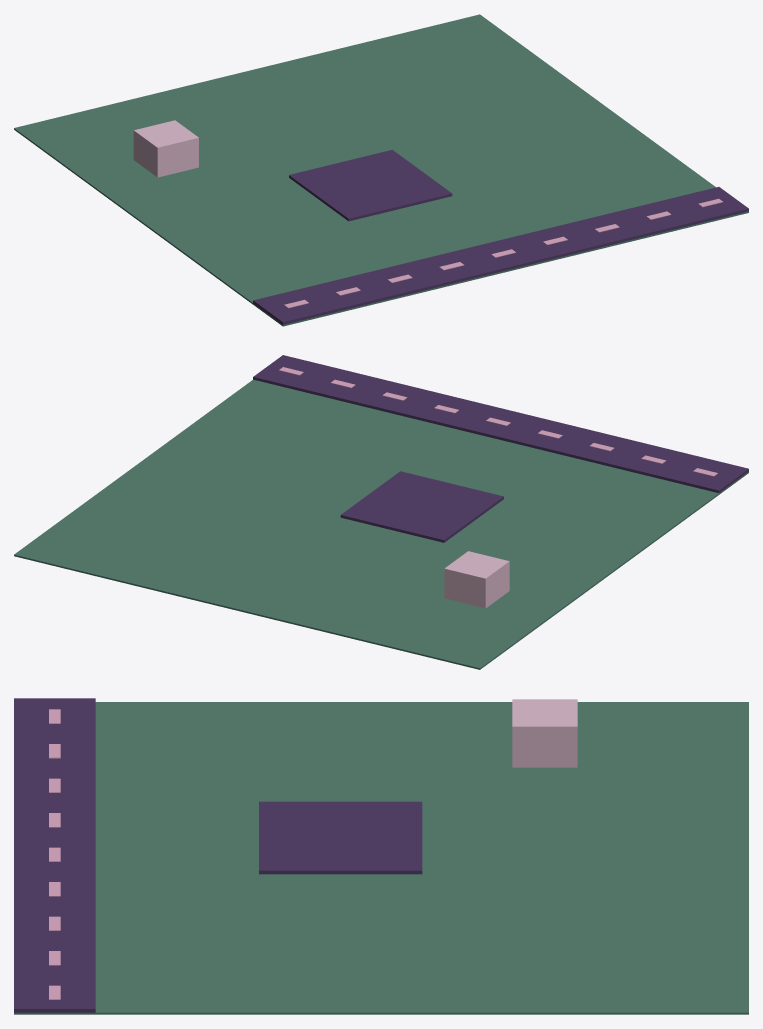
Rendered from stage_02.glb.
3 renders of one model, top to bottom at view 1: azimuth 30°, elevation 25°; view 2: azimuth 150°, elevation 25°; view 3: azimuth 270°, elevation 25°, orthographic. The views are drawn at different scales.
Parts seen in each view (by area): view 1: geometry_0; view 2: geometry_0; view 3: geometry_0.
Part boxes in pixels (box(x1,y1,x2,y2)): geometry_0: box(14, 14, 748, 326); geometry_0: box(14, 355, 748, 669); geometry_0: box(14, 698, 748, 1014).
Size of the model in its own units: 9 by 0.58 by 9.
